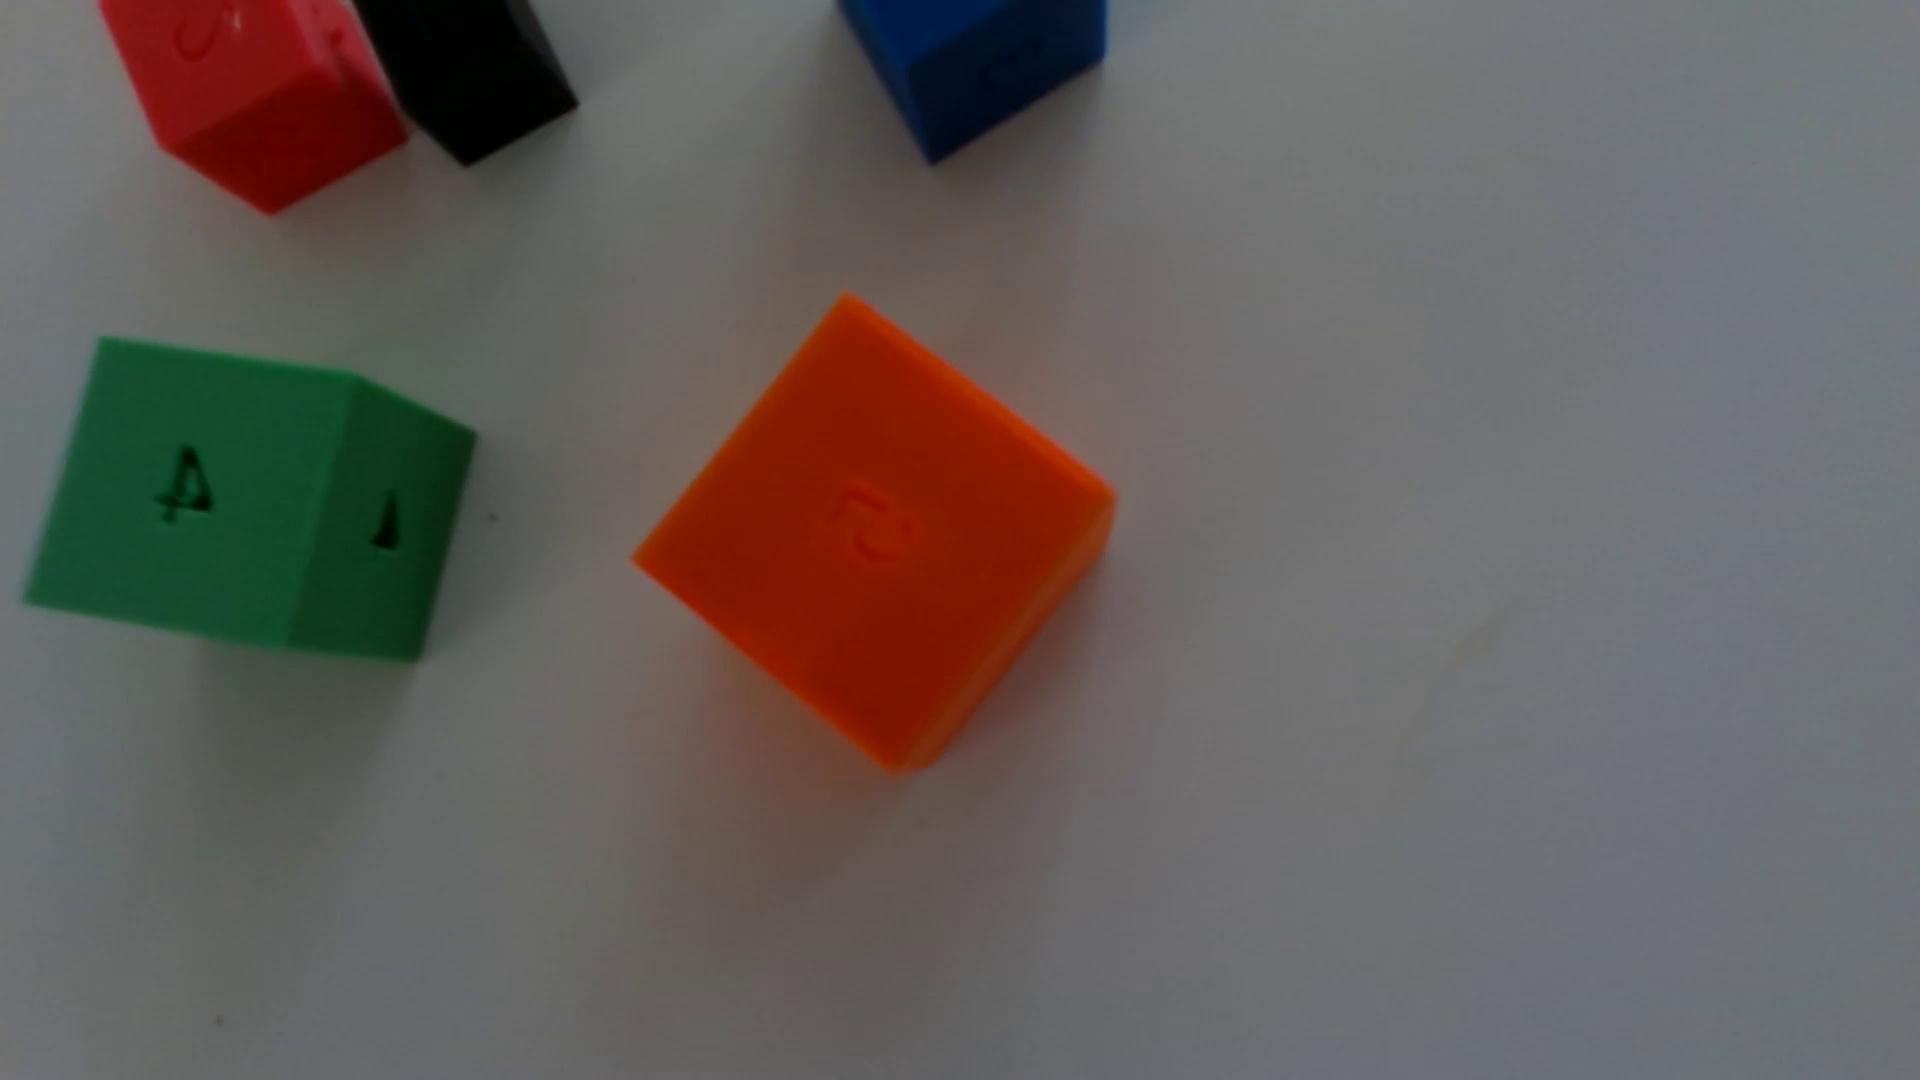black: (352, 0, 578, 167)
blue: (837, 0, 1108, 164)
green: (25, 339, 476, 662)
orange: (634, 297, 1116, 773)
red: (99, 0, 407, 214)
